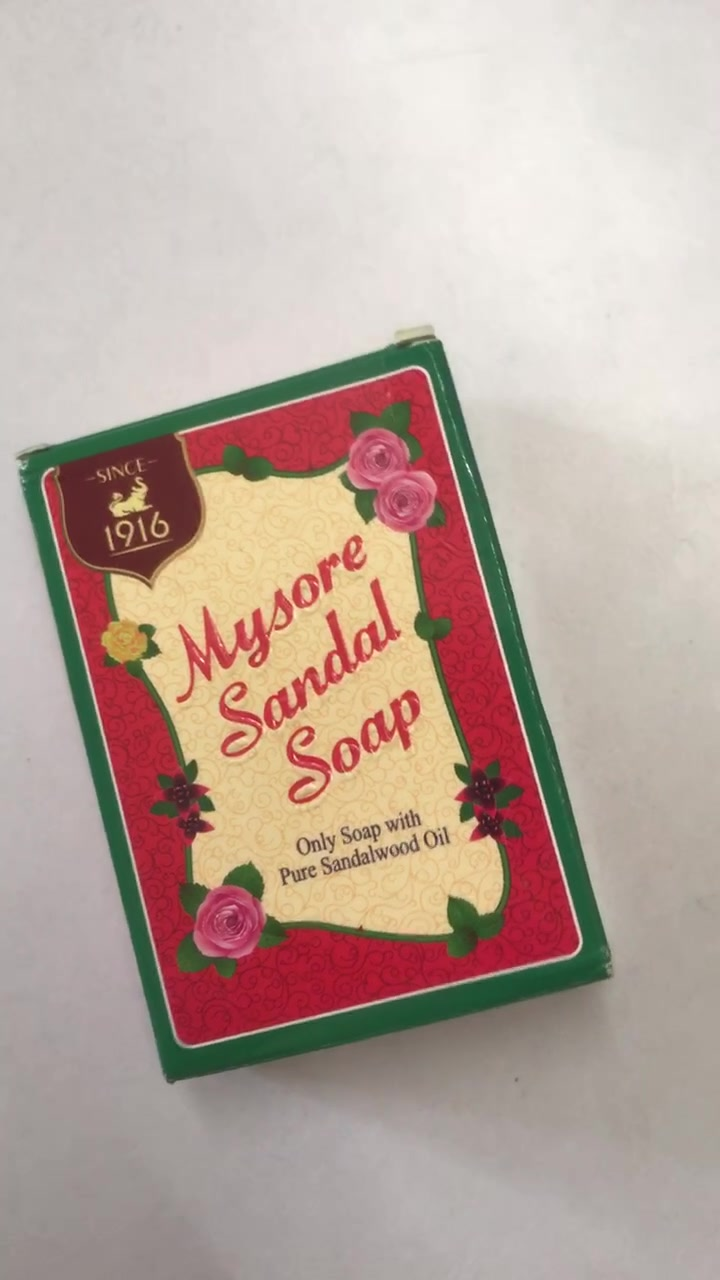mysore sandal soap: (20, 343, 614, 1088)
